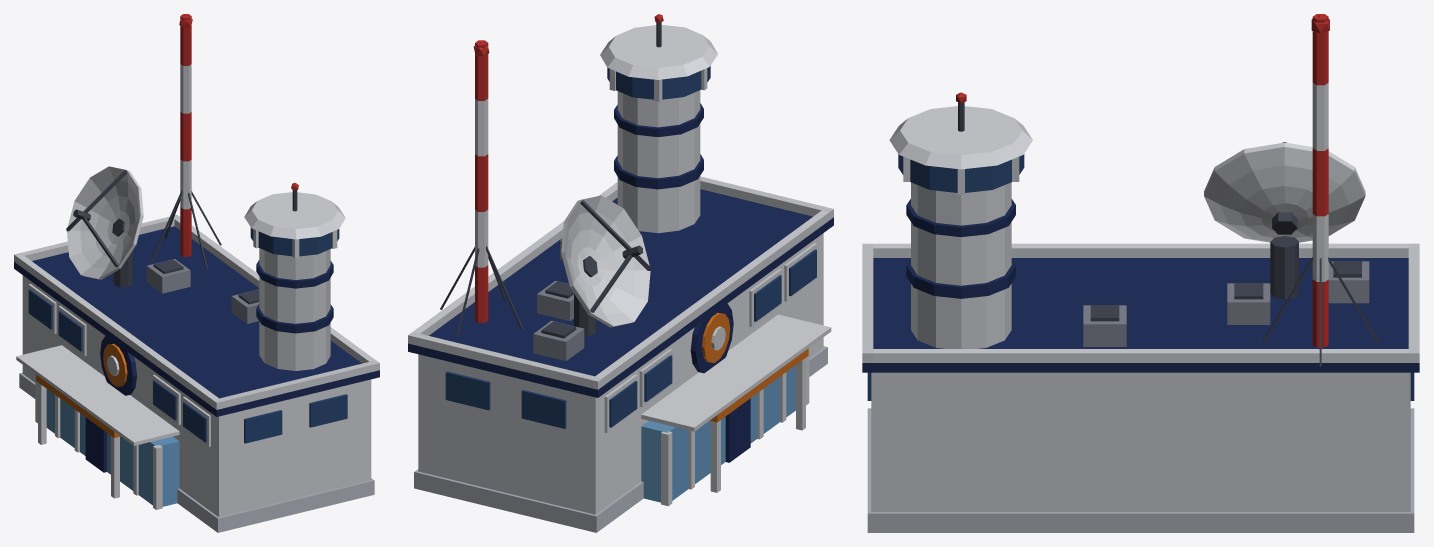
The model's file is Decor_LaunchPad_Control.fbx.
3 views of the same model, side by side, from view 1: azimuth 30°, elevation 25°; view 2: azimuth 150°, elevation 25°; view 3: azimuth 270°, elevation 25° (orthographic). The views are drawn at different scales.
Parts seen in each view (by area): view 1: Control_Body; view 2: Control_Body; view 3: Control_Body.
Boxes of the visible parts, x1,y1,x2,y2 form: Control_Body: (14,14,379,532); Control_Body: (408,14,833,532); Control_Body: (862,14,1419,532).
Bounding box in the file's own units: 18.7 × 30.8 × 31.
